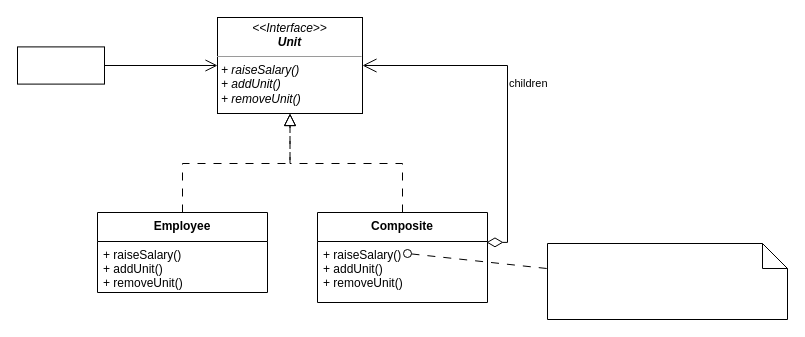
This 805x337 diagram has some shape labels left out. Each missing label, with the centre of its shape:
"Client" belongs at point (60, 65).
"for (Unit unit : this.children) { unit.raiseSalary() }" belongs at point (667, 281).
